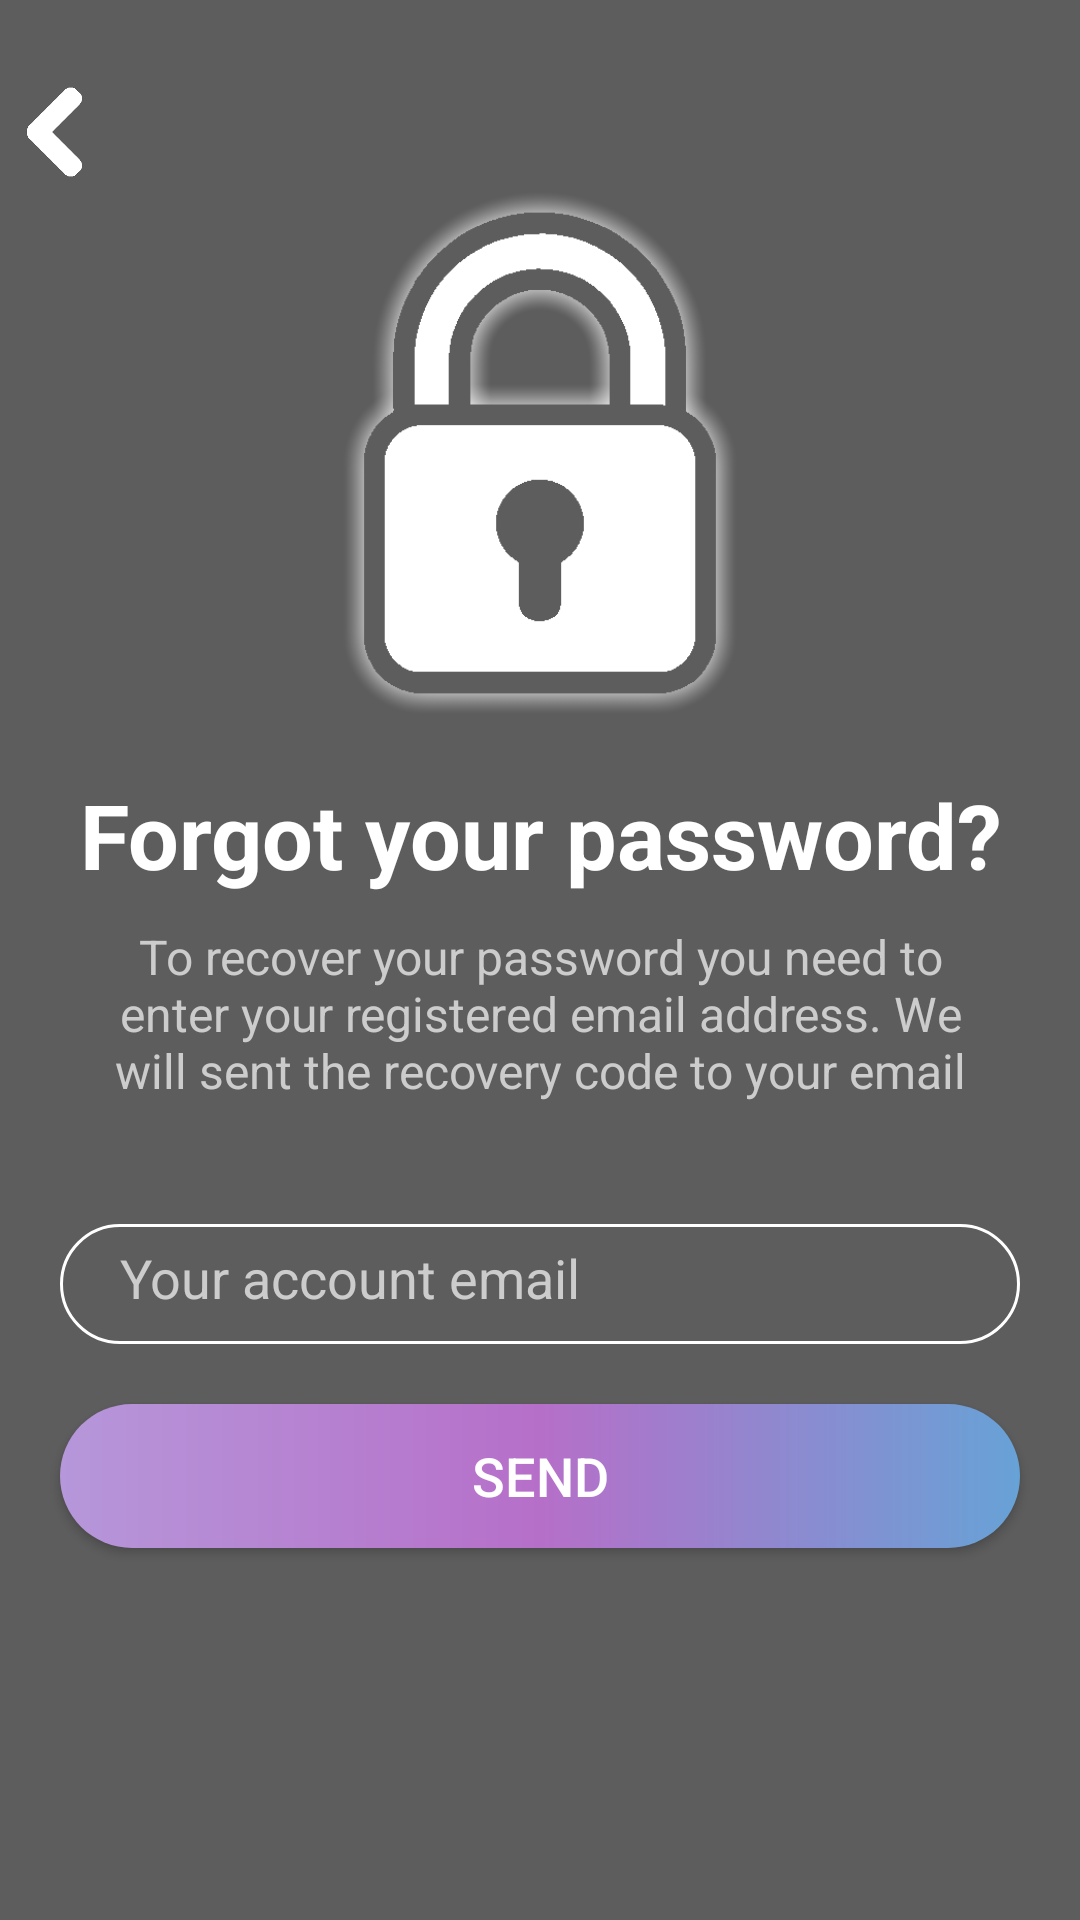

Icon bounding boxes for this 1080 × 1920 phone screenshot, format (x1, y1, x2, y2):
left arrow: (27, 87, 82, 177)
